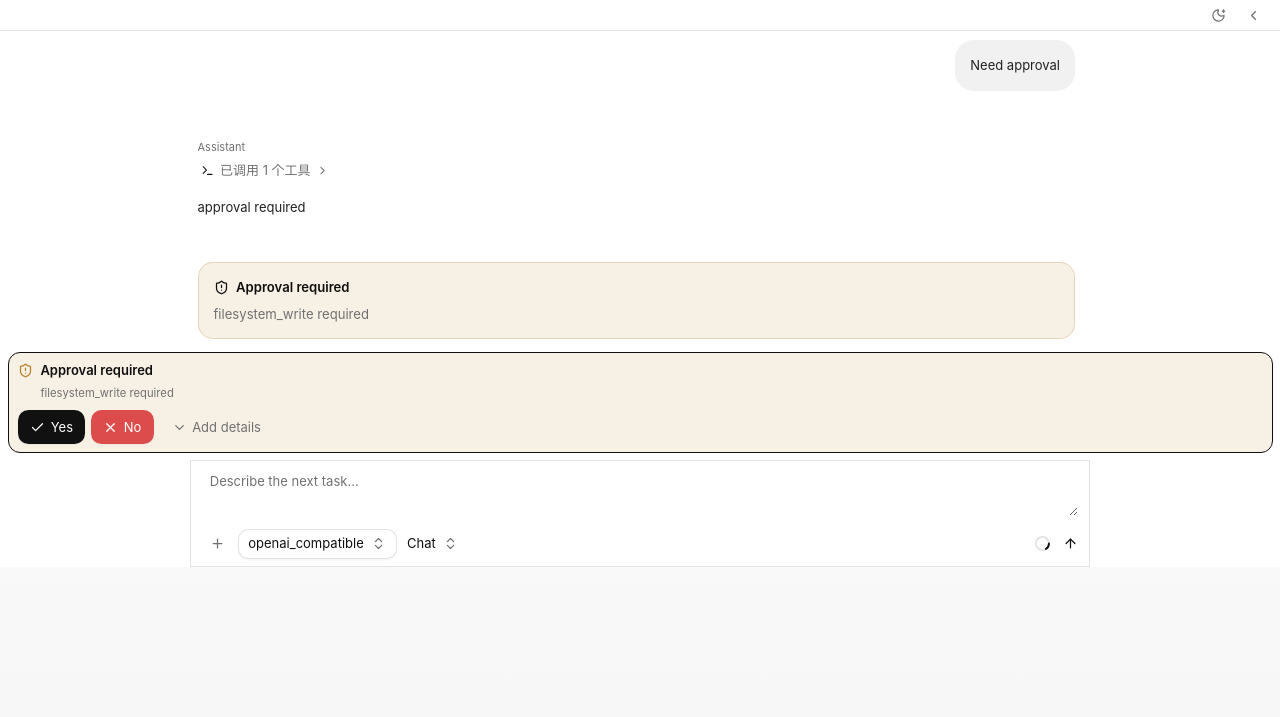
Test case: WorkspaceShell › keeps reported token usage separate from context pressure estimates
Expected: the button named "context window 160 / 1k (16%)" is shown, [1029,530,1055,557]
Click the button named "open utilities" at (1254, 15), box [1239,0,1269,30]
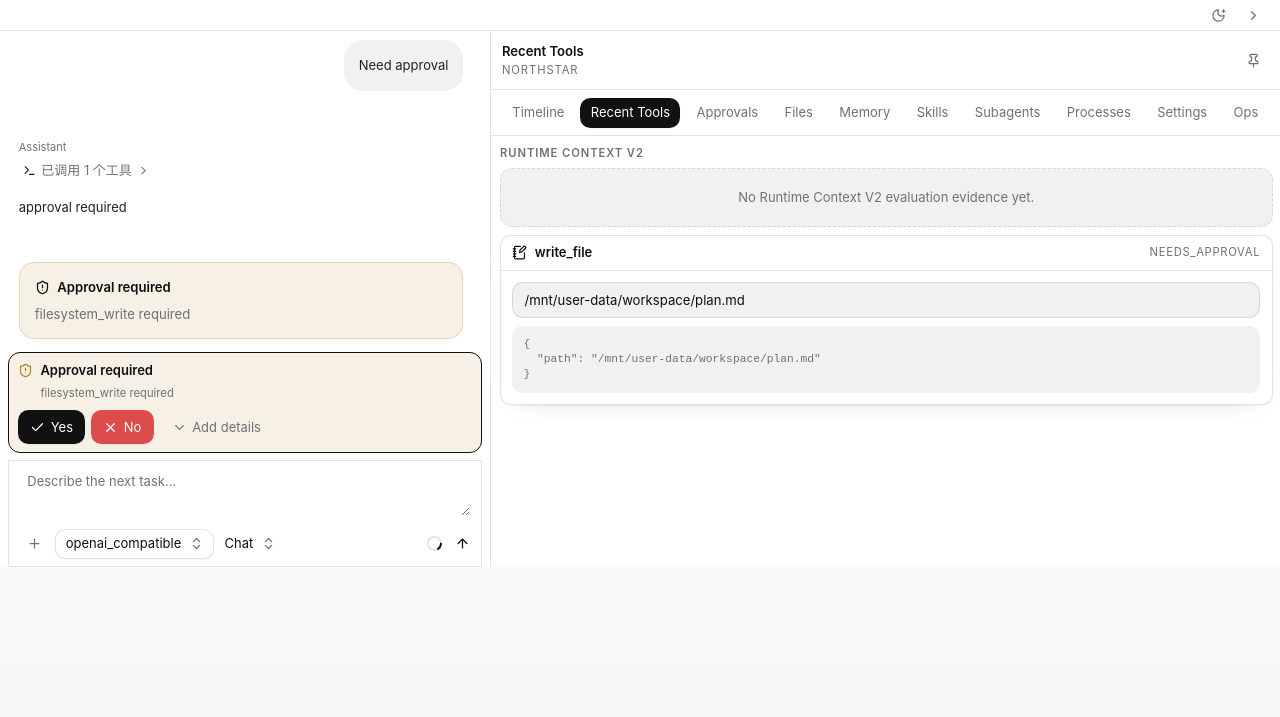
Click the button "Settings" at (1182, 113), box [1147,98,1218,128]
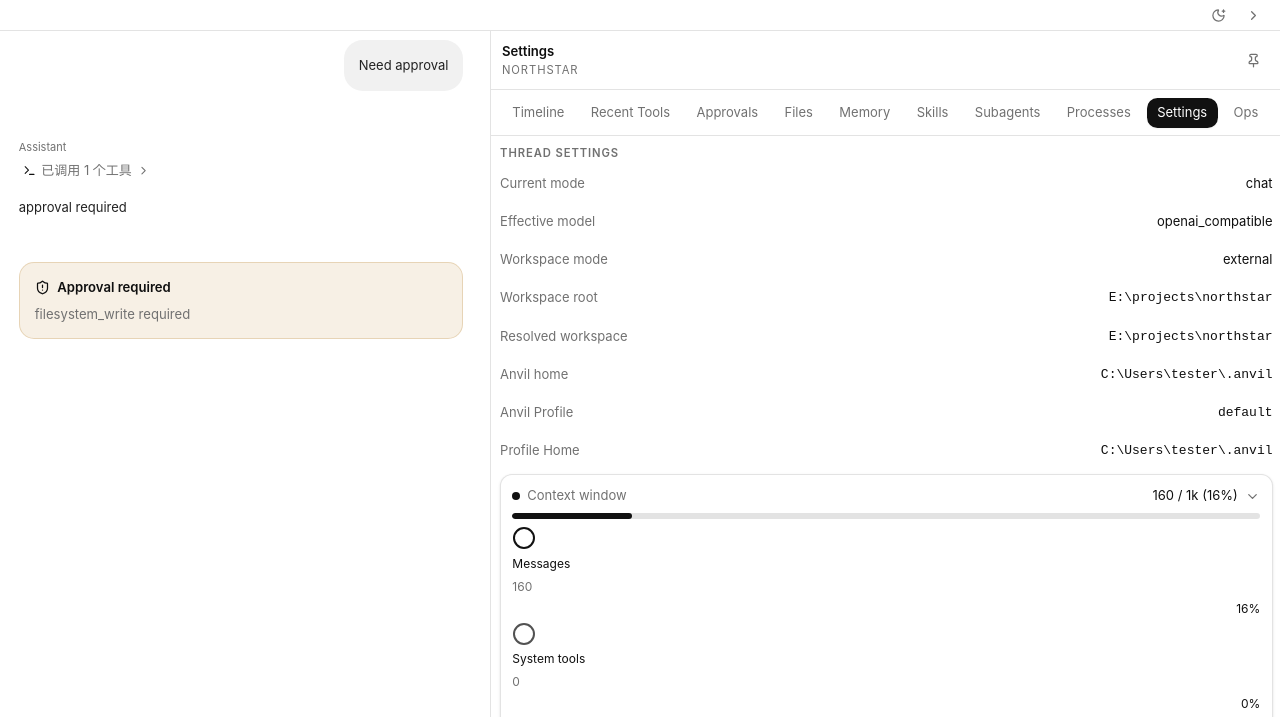
Click the button with aria-label "show details" at (577, 495), box [512,486,1260,506]
(page scrolled)
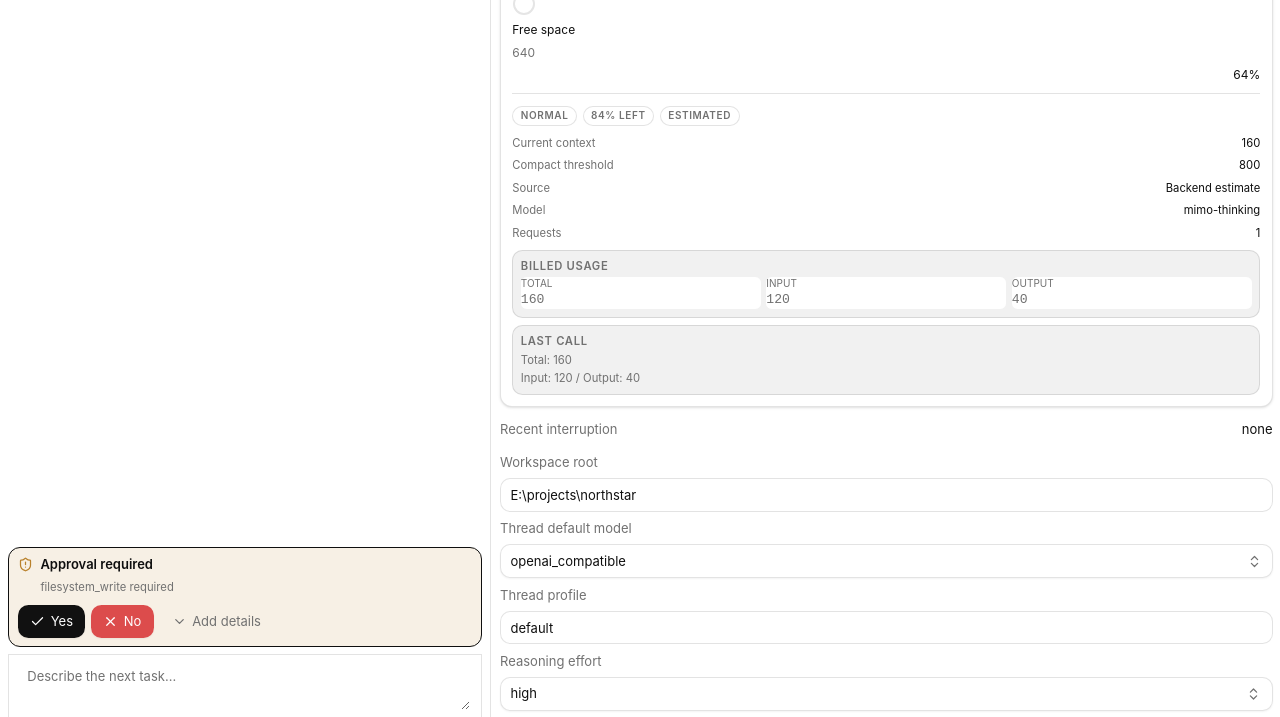
Now the text "Last call" is shown, box [521,334,588,348]
Now the text "Total: 160" is shown, box [521,353,572,367]
